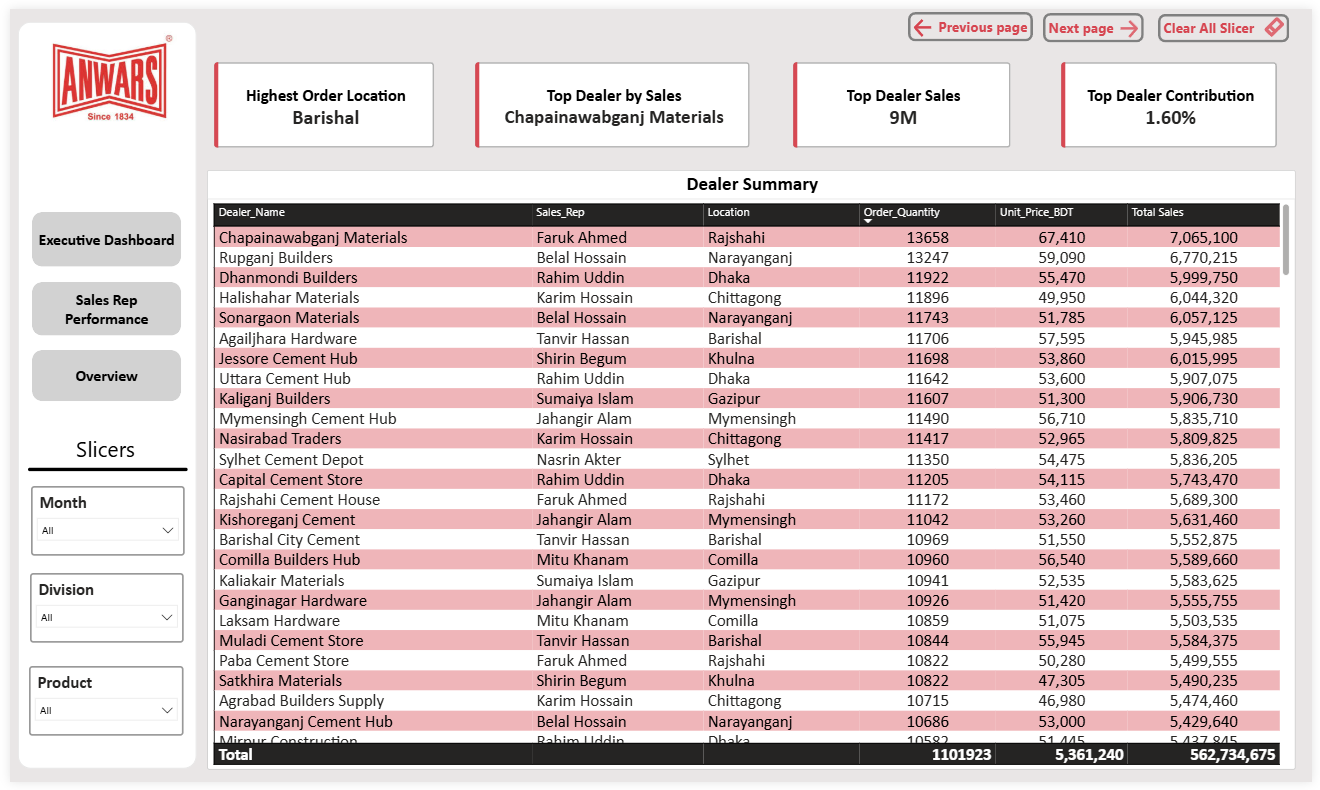

The dashboard page shown, as its layout file describes it:
{"tool":"powerbi","page":{"name":"OverView","canvas":[1550,920],"ordinal":3},"visuals":[{"type":"group","id":"g1","title":"Group 1","box":[2.5,15.6,232.5,888.8],"z":0,"group":"g2"},{"type":"tableEx","title":"Dealer Summary ","fields":{"Values":["Dealer.Dealer_Name","Sales_Data.Sales_Rep","Sales_Data.Location","Sum(Sales_Data.Order_Quantity)","Sum(Sales_Data.Unit_Price_BDT)","_Measures.Total Sales"]},"box":[235,191.2,1296.2,713.8],"z":0},{"type":"group","id":"g2","title":"Group 2","box":[2.5,15.6,232.5,888.8],"z":1000},{"type":"cardVisual","title":"Total Sales","fields":{"Data":["_Measures.Highest Order Location"]},"box":[231.2,51.2,286.2,126.2],"z":2000},{"type":"actionButton","box":[1230,5,120,35],"z":3000},{"type":"actionButton","box":[1068.8,3.8,148.8,35],"z":4000},{"type":"actionButton","box":[1366.2,6.2,156.2,33.8],"z":5000},{"type":"shape","box":[10,15.6,212.5,888.8],"z":5000,"group":"g1"},{"type":"cardVisual","title":"Total Sales","fields":{"Data":["_Measures.Top Dealer Sales"]},"box":[920,51.2,283.8,126.2],"z":6000},{"type":"actionButton","title":"Sales Overview","box":[26.3,241.7,177.5,65],"z":6000,"group":"g2"},{"type":"cardVisual","title":"Total Sales","fields":{"Data":["_Measures.Top Dealer by Sales"]},"box":[541.2,51.2,351.2,126.2],"z":7000},{"type":"cardVisual","title":"Total Sales","fields":{"Data":["_Measures.Top Dealer Contribution %"]},"box":[1238.8,51.2,281.2,126.2],"z":8000},{"type":"shape","box":[21,529.3,190,36.8],"z":8000,"group":"g2"},{"type":"slicer","title":"Month","fields":{"Values":["LocalDateTable_8a713fd1-94c4-4bf1-bb59-1344b7c62bfd.Month"]},"box":[25.4,567.5,182.9,82.7],"z":10000,"group":"g2"},{"type":"slicer","title":"Location","fields":{"Values":["Dealer.Division"]},"box":[23.9,671.2,182.9,82.7],"z":11000,"group":"g2"},{"type":"slicer","title":"Location","fields":{"Values":["Sales_Data.Product"]},"box":[22.5,781.8,184.3,82.7],"z":13000,"group":"g2"},{"type":"actionButton","box":[45.5,502.7,137.1,39.2],"z":14000,"group":"g2"},{"type":"image","box":[2.5,21.7,232.5,131.2],"z":15000,"group":"g1"},{"type":"actionButton","title":"Sales Overview","box":[26.3,325,177.5,63.7],"z":15000,"group":"g2"},{"type":"actionButton","title":"Sales Overview","box":[26.3,406.5,177.5,60.9],"z":16000,"group":"g2"}]}

Visuals, with their boxes in screenshot pixels (x1, y1, x2, y2), scaled from the page's 1550x920 canvas onto the 1320x790 screenshot:
"Group 1" group: 2,13,200,777
"Dealer Summary " tableEx: 200,164,1304,777
"Group 2" group: 2,13,200,777
"Total Sales" cardVisual: 197,44,441,152
actionButton: 1047,4,1150,34
actionButton: 910,3,1037,33
actionButton: 1163,5,1296,34
shape: 9,13,189,777
"Total Sales" cardVisual: 783,44,1025,152
"Sales Overview" actionButton: 22,208,174,263
"Total Sales" cardVisual: 461,44,760,152
"Total Sales" cardVisual: 1055,44,1294,152
shape: 18,455,180,486
"Month" slicer: 22,487,177,558
"Location" slicer: 20,576,176,647
"Location" slicer: 19,671,176,742
actionButton: 39,432,156,465
image: 2,19,200,131
"Sales Overview" actionButton: 22,279,174,334
"Sales Overview" actionButton: 22,349,174,401
